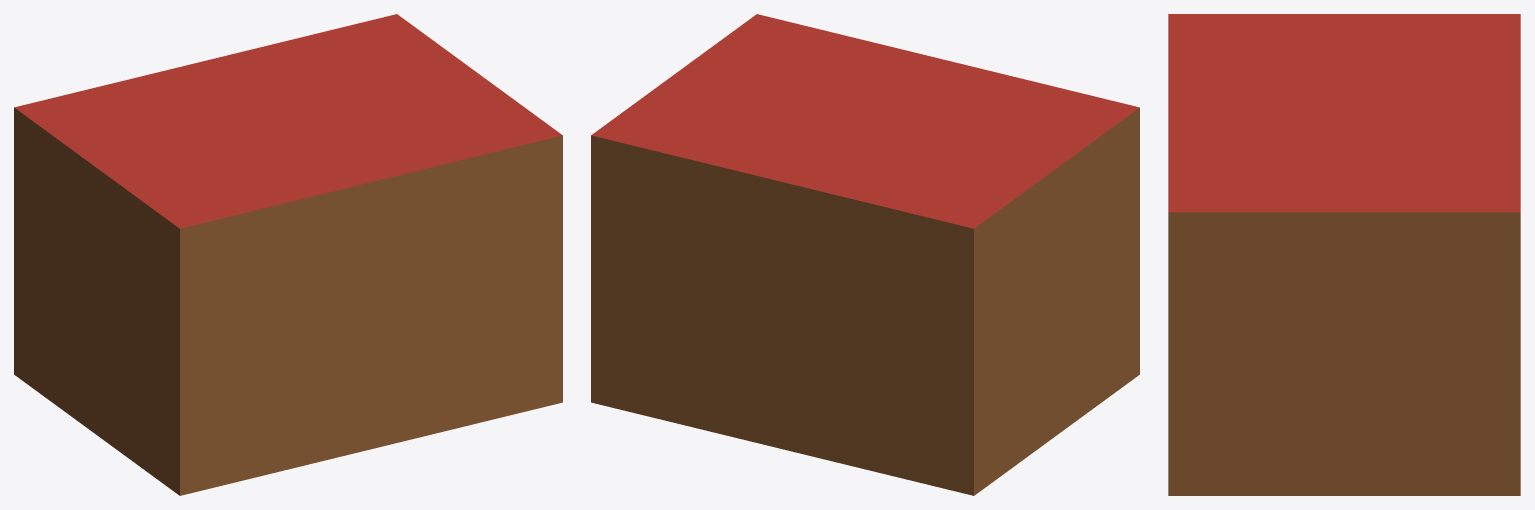
Rendered from biome-orchard-crate.glb.
3 views of the same model, side by side, from view 1: azimuth 30°, elevation 25°; view 2: azimuth 150°, elevation 25°; view 3: azimuth 270°, elevation 25° (orthographic). The views are drawn at different scales.
Bounding box in the file's own units: 0.6 × 0.4 × 0.45.
